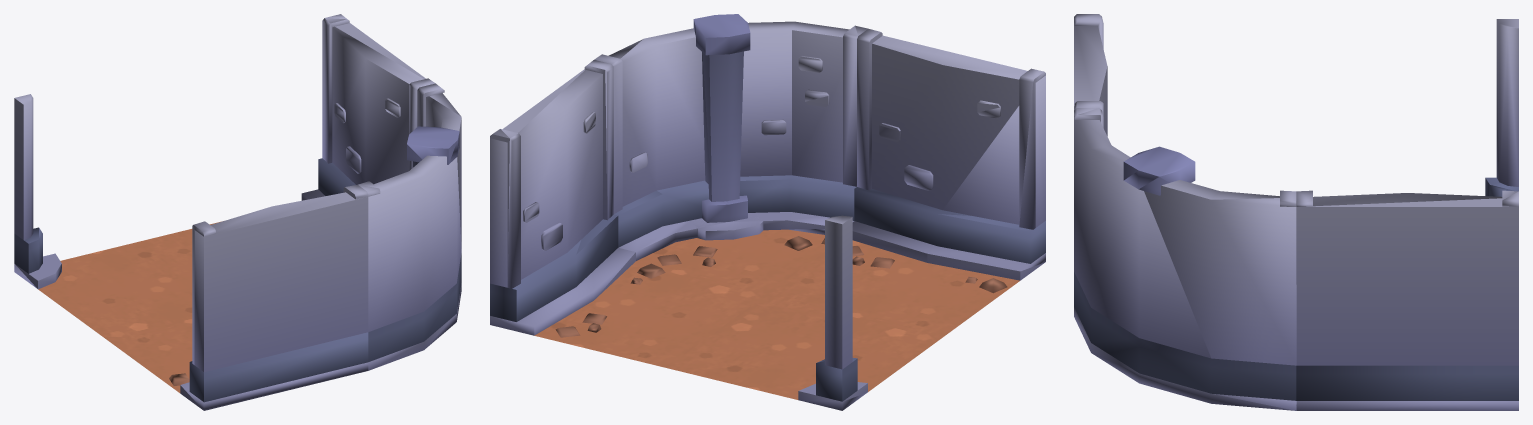
The model's file is corridor-wide-corner.fbx.
3 views of the same model, side by side, from view 1: azimuth 30°, elevation 25°; view 2: azimuth 150°, elevation 25°; view 3: azimuth 270°, elevation 25° (orthographic). The views are drawn at different scales.
Visible parts, largest first — view 1: corridor-wide-corner; view 2: corridor-wide-corner; view 3: corridor-wide-corner.
Part boxes in pixels (x1,y1,x2,y2): corridor-wide-corner: (14, 14, 461, 410); corridor-wide-corner: (490, 14, 1045, 410); corridor-wide-corner: (1074, 14, 1518, 410).
Bounding box in the file's own units: 800 × 423 × 800.
